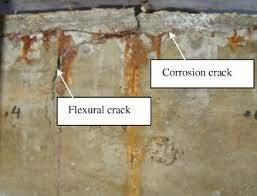Corrosion: (120, 31, 149, 96), (55, 29, 77, 95), (127, 126, 145, 196), (5, 33, 39, 65), (150, 31, 166, 59), (225, 28, 245, 49), (41, 29, 56, 52)
Spalling: (147, 135, 179, 167)
